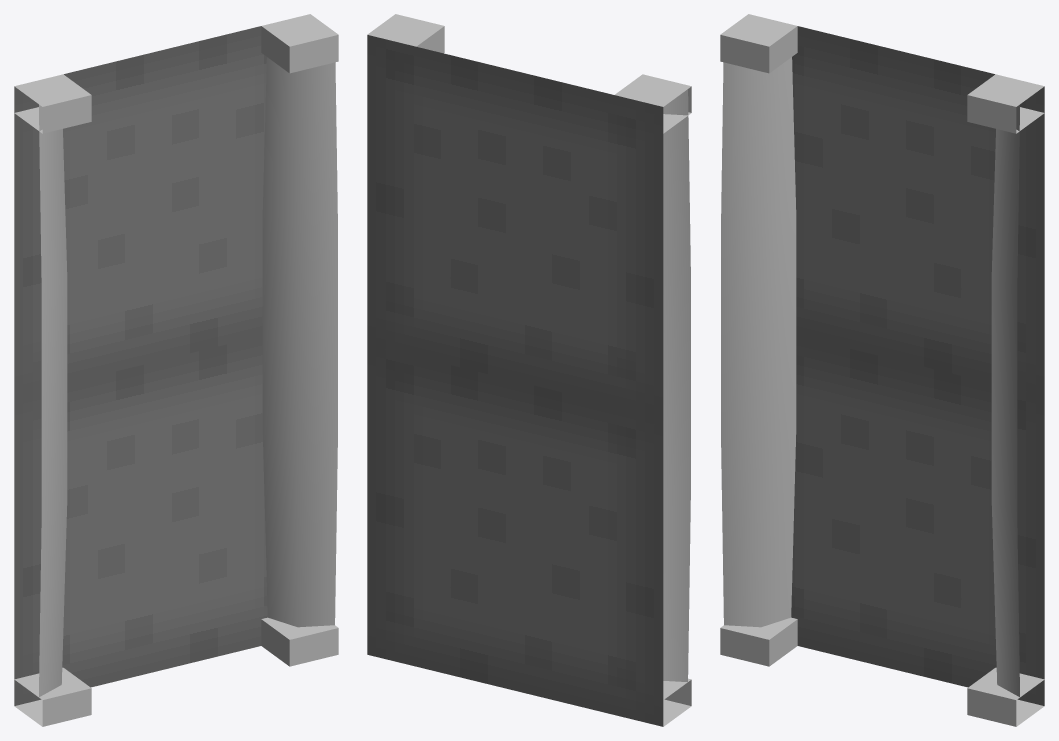
File: wall_hori_columns_32x32x64.obj
3 views of the same model, side by side, from view 1: azimuth 30°, elevation 25°; view 2: azimuth 150°, elevation 25°; view 3: azimuth 330°, elevation 25° (orthographic).
Visible parts, largest first — view 1: Cube.046_Column.008; view 2: Cube.046_Column.008; view 3: Cube.046_Column.008.
Part boxes in pixels (left/top/right/bottom): Cube.046_Column.008: left=14, top=14, right=338, bottom=726; Cube.046_Column.008: left=367, top=14, right=691, bottom=726; Cube.046_Column.008: left=720, top=14, right=1044, bottom=726.
Bounding box in the file's own units: 32 × 64 × 5.31.
